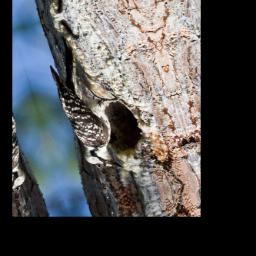Woodpecker: (36, 24, 140, 184)
